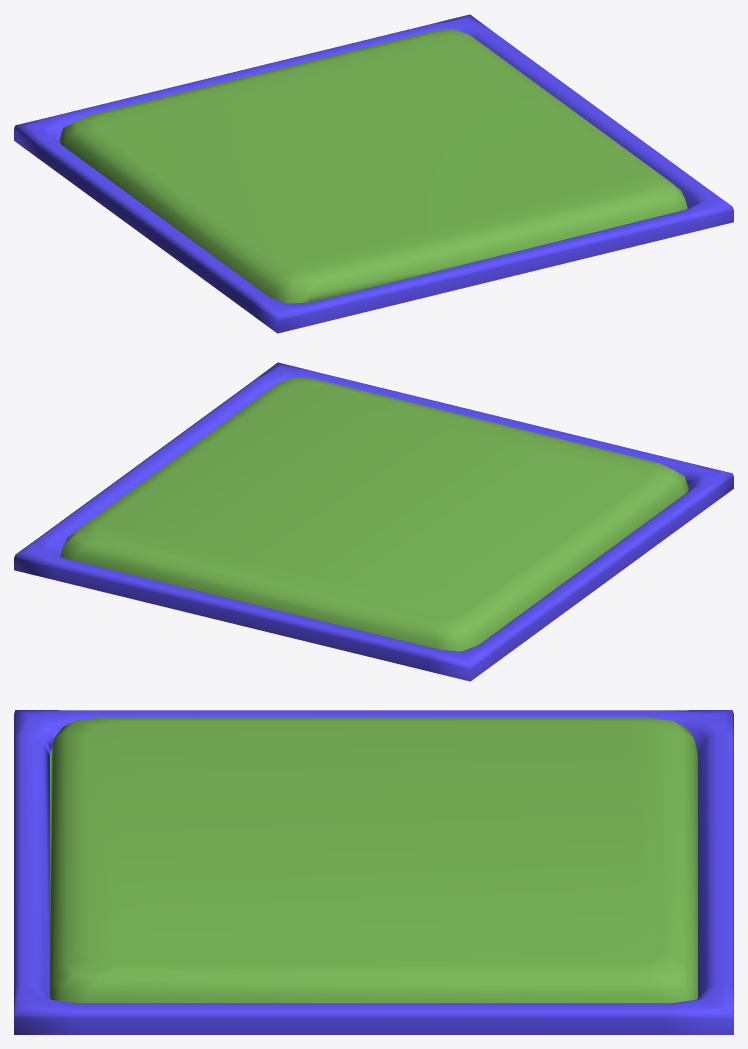
Rendered from GravityFloor_01.FBX.
3 views of the same model, one above another, from view 1: azimuth 30°, elevation 25°; view 2: azimuth 150°, elevation 25°; view 3: azimuth 270°, elevation 25° (orthographic). The views are drawn at different scales.
Parts seen in each view (by area): view 1: GravityFloor_01; view 2: GravityFloor_01; view 3: GravityFloor_01.
Boxes of the visible parts, bbox=[...] form: GravityFloor_01: bbox=[14, 14, 733, 333]; GravityFloor_01: bbox=[14, 362, 733, 681]; GravityFloor_01: bbox=[14, 710, 733, 1034].
Size of the model in its own units: 2 by 0.12 by 2.
